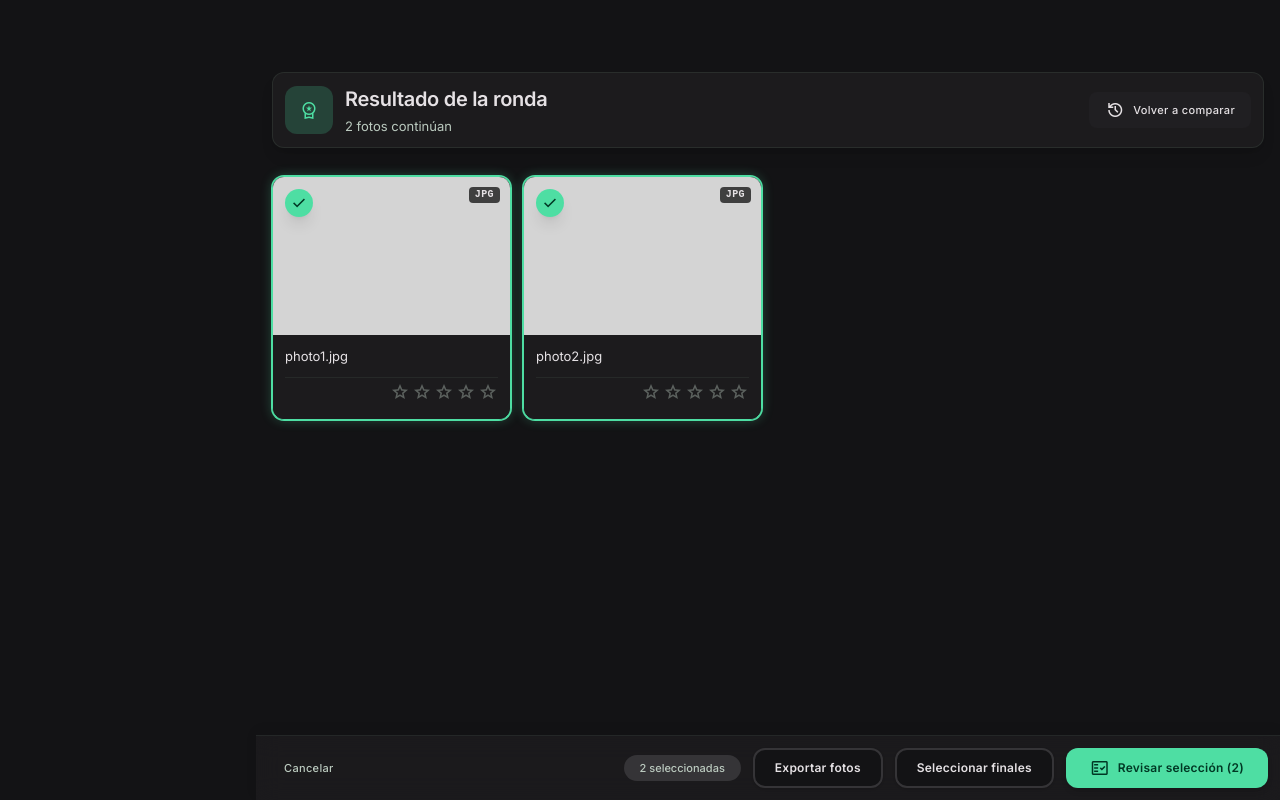
Scenario: FinalistsUI (Phase 2.5A) › 2. Toggle select incrementa y decrementa correctamente el contador
Expected: the heading "Resultado de la ronda" is shown, [345, 85, 547, 113]
Expected: the button "Revisar selección (2)" is enabled, [1066, 748, 1268, 788]
Clic en la primera para deseleccionar
Click the element with class "group" showing "JPG photo1.jpg" at (392, 298), box [272, 176, 511, 420]
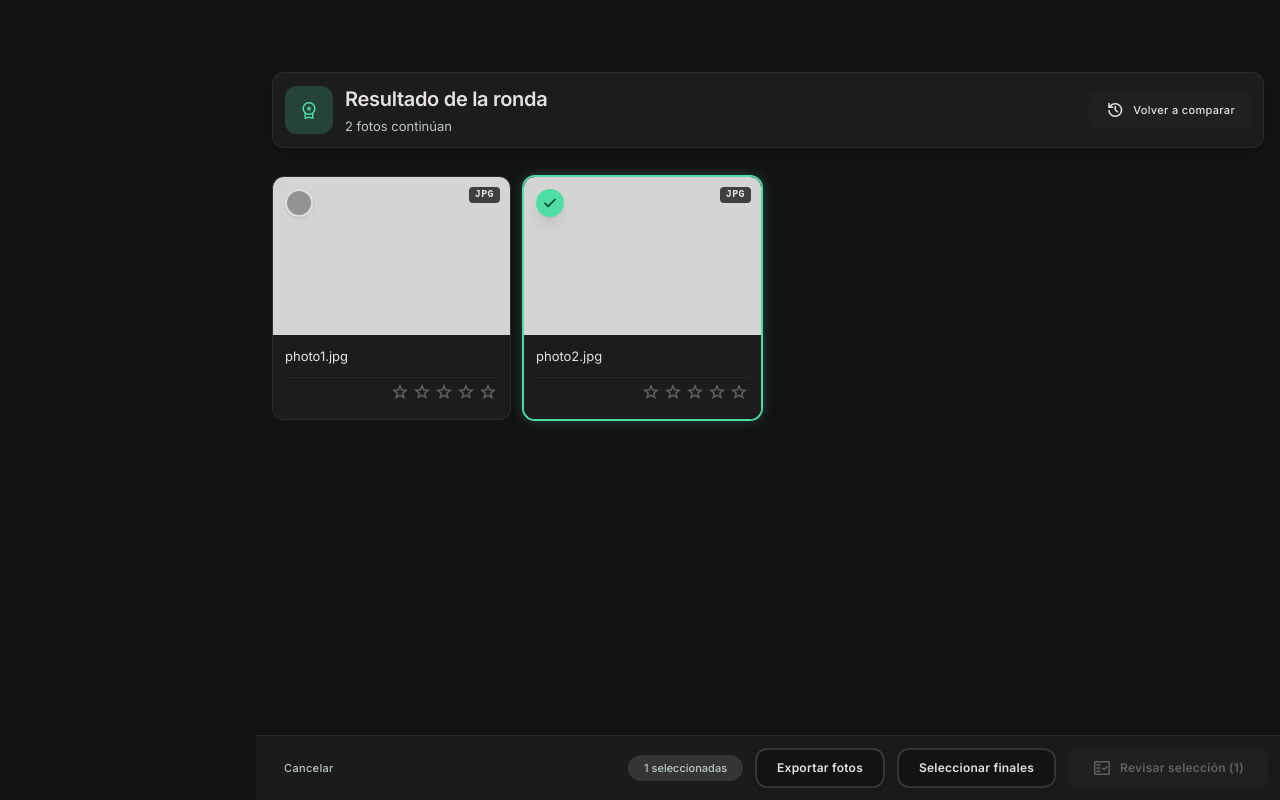
Expected: the button "Seleccionar finales" is enabled, [897, 748, 1056, 788]
Expected: the text "1 seleccionadas" is shown, [644, 761, 727, 775]
Clic en la segunda para deseleccionar
Click the element with class "group" showing "JPG photo2.jpg" at (642, 298), box [523, 176, 762, 420]
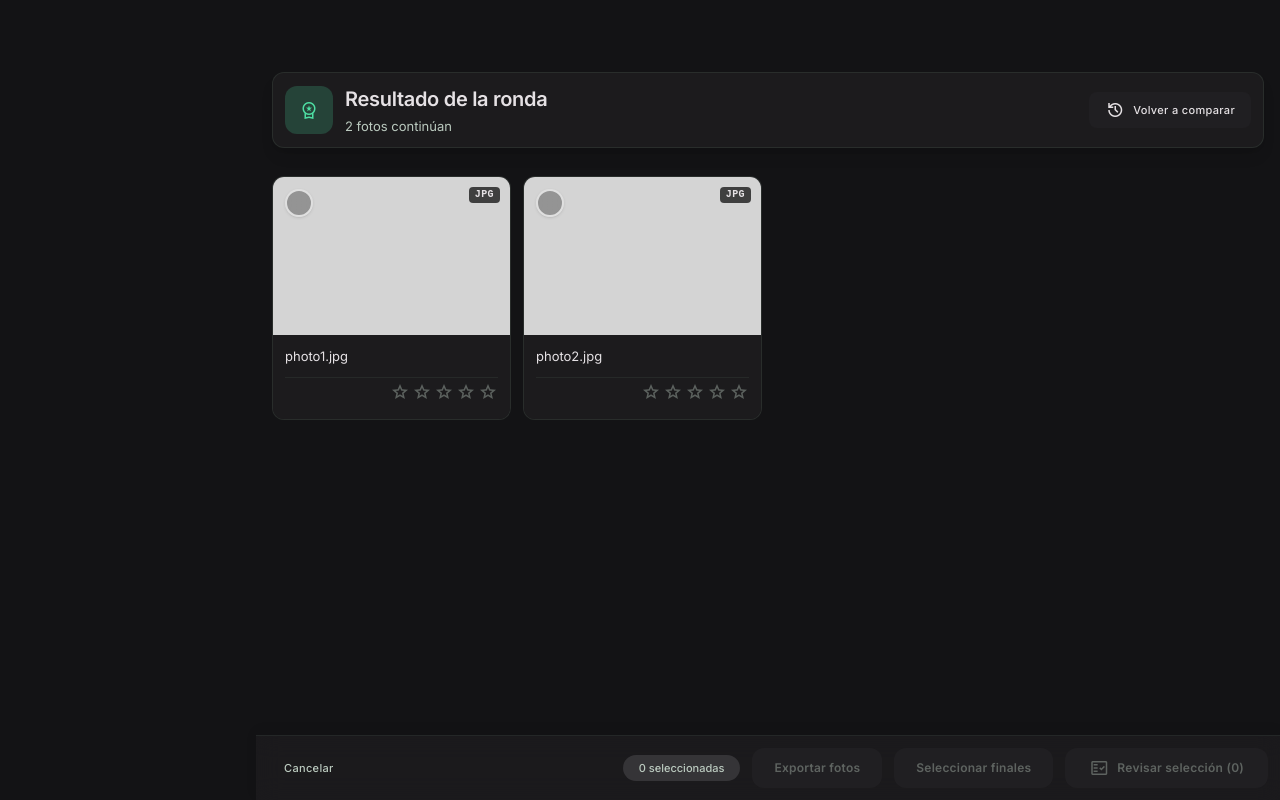
Expected: the text "0 seleccionadas" is shown, [639, 761, 724, 775]
Expected: the button "Seleccionar finales" is disabled, [894, 748, 1053, 788]
